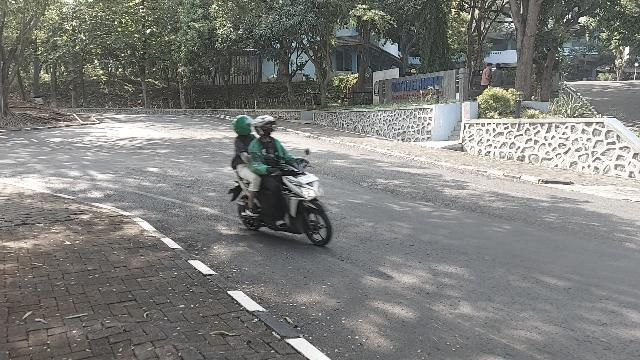helm: (256, 117, 279, 138), (234, 115, 254, 137)
motor: (229, 150, 333, 249)
